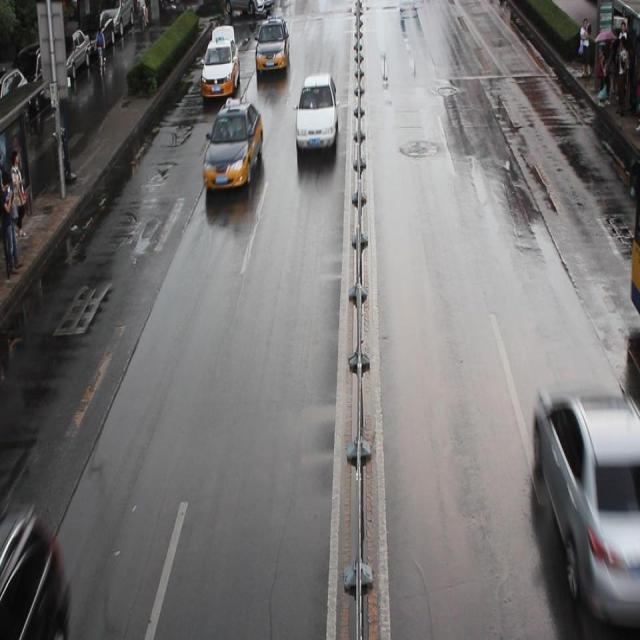car: (533, 384, 640, 620), (201, 97, 263, 190), (294, 73, 338, 151), (200, 36, 240, 98), (254, 18, 289, 72), (217, 1, 274, 17)
van: (627, 186, 640, 318)
